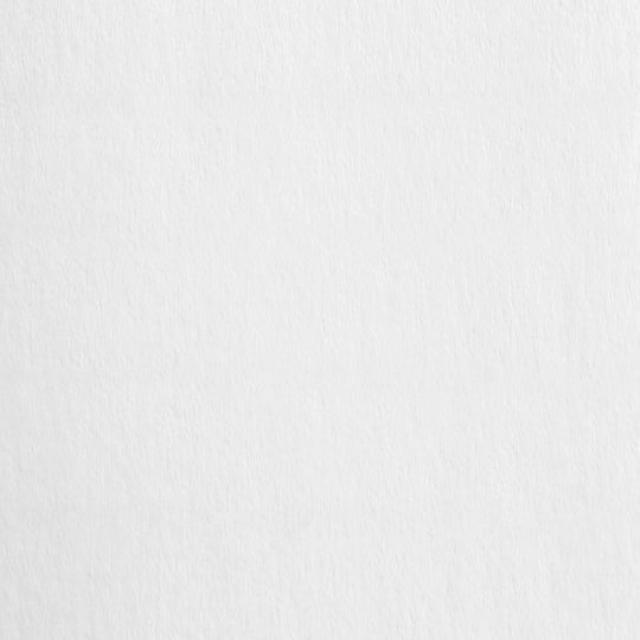rough and patchy surface: (9, 9, 629, 632)
